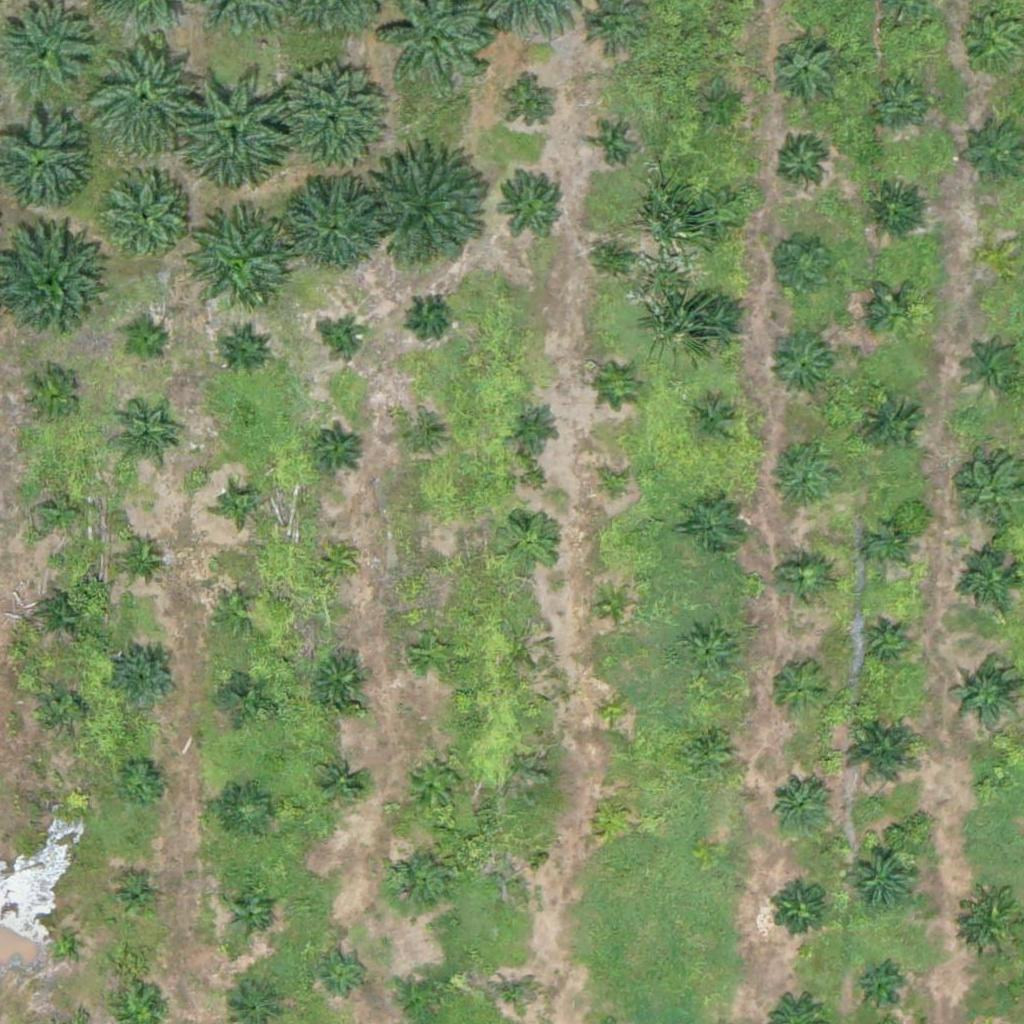Kelapa_Sawit: (174, 68, 299, 194), (82, 34, 207, 160), (370, 149, 495, 274), (271, 62, 384, 175), (180, 212, 292, 325), (281, 173, 381, 274), (95, 167, 195, 268), (840, 708, 927, 796), (948, 659, 1023, 735), (762, 229, 837, 305), (843, 839, 918, 914), (494, 165, 569, 240), (766, 657, 829, 720), (771, 450, 834, 513), (769, 774, 832, 837), (960, 891, 1023, 954), (112, 410, 175, 473), (18, 364, 81, 427), (385, 848, 448, 911), (684, 493, 747, 556), (114, 646, 177, 709), (680, 623, 743, 686), (685, 293, 748, 356), (864, 177, 927, 240), (29, 481, 92, 544), (770, 334, 832, 397), (767, 877, 829, 940), (860, 394, 922, 457), (960, 551, 1022, 614), (309, 650, 371, 713), (403, 751, 465, 814), (771, 36, 833, 99), (499, 511, 561, 574), (221, 785, 271, 836), (689, 397, 739, 448), (219, 667, 269, 718), (39, 589, 89, 640), (508, 82, 558, 133), (696, 191, 746, 242), (115, 532, 165, 583), (40, 683, 90, 734), (116, 756, 166, 807), (314, 756, 364, 807), (488, 971, 538, 1022), (400, 969, 450, 1020), (318, 946, 368, 997), (226, 888, 276, 939), (778, 556, 828, 606), (850, 965, 900, 1015), (870, 286, 920, 336), (219, 325, 269, 375), (313, 423, 363, 473), (683, 724, 733, 774), (778, 138, 828, 188), (872, 79, 922, 129), (509, 402, 559, 452), (409, 627, 459, 677), (212, 587, 262, 637), (120, 320, 170, 370), (111, 873, 161, 923), (859, 617, 908, 668), (603, 367, 641, 405), (410, 295, 448, 333), (703, 84, 741, 122), (596, 468, 634, 506), (594, 587, 632, 625), (596, 694, 634, 732), (592, 794, 630, 832), (318, 541, 356, 579), (221, 486, 259, 524), (327, 321, 364, 359), (869, 526, 906, 564), (404, 419, 441, 457), (416, 548, 453, 586), (499, 846, 536, 884), (594, 129, 631, 166), (598, 239, 635, 276), (986, 247, 1011, 272), (976, 774, 1001, 799), (48, 930, 73, 955)
